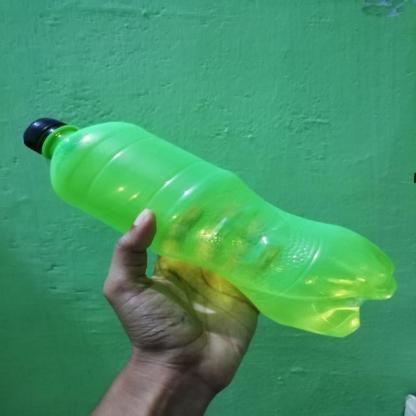Plastic Bottle: (22, 116, 398, 338)
